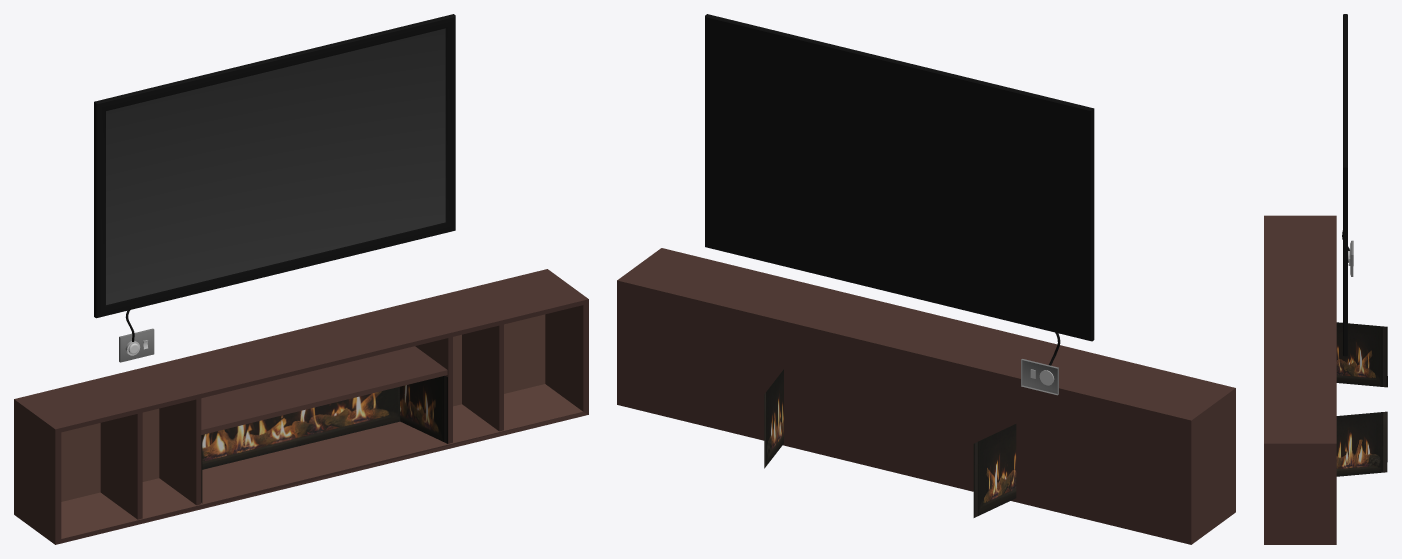
3 renders of one model, left to right at view 1: azimuth 30°, elevation 25°; view 2: azimuth 150°, elevation 25°; view 3: azimuth 270°, elevation 25°, orthographic. The views are drawn at different scales.
Parts seen in each view (by area): view 1: tv; view 2: tv; view 3: tv.
Part boxes in pixels (x1,y1,x2,y2): tv: [14, 14, 588, 544]; tv: [617, 14, 1235, 544]; tv: [1264, 14, 1387, 544].
Size of the model in its own units: 250 by 173 by 57.25.
